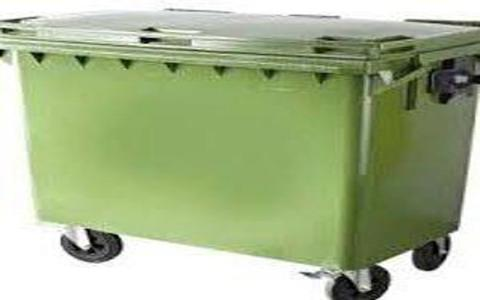Proper garbage: (1, 3, 474, 296)
